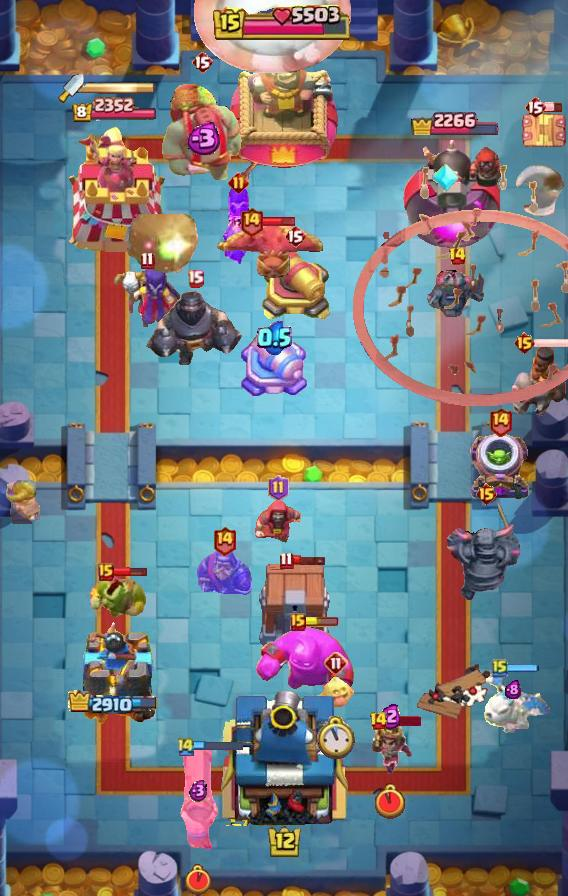axe: (112, 265, 182, 327)
bar: (55, 126, 173, 256)
bat-evolution: (316, 672, 356, 710)
battle-healer: (175, 747, 221, 851)
battle-ram: (426, 270, 488, 318)
bomb: (256, 564, 334, 650)
bomber-evolution: (367, 718, 413, 778)
bowler: (253, 499, 303, 549)
clock: (213, 5, 355, 43)
clone: (254, 626, 362, 708)
electro-spirit: (182, 122, 222, 154), (256, 321, 291, 355), (379, 703, 402, 729), (189, 778, 208, 801), (505, 680, 521, 699)
elite-barbarian: (510, 342, 568, 418)
elixir: (317, 716, 355, 760), (375, 783, 405, 819), (185, 865, 211, 896)
emote: (193, 740, 245, 752), (291, 554, 327, 566), (534, 337, 568, 349), (112, 567, 148, 578), (261, 217, 296, 228), (303, 617, 339, 627), (385, 716, 421, 726), (506, 663, 540, 673), (544, 103, 564, 114)
firecracker-evolution: (196, 547, 252, 597)
flying-machine: (89, 571, 147, 625)
goblin-ball: (221, 185, 255, 267)
goblin-brawler: (520, 109, 568, 153)
goblin-cage: (468, 432, 532, 502)
goblin-giant: (4, 479, 40, 525)
golemite: (447, 498, 525, 602)
king-tower: (214, 684, 354, 826), (230, 43, 338, 181)
king-tower-bar: (84, 81, 156, 95)
lava-hound: (159, 78, 245, 190)
mini-pekka: (473, 671, 553, 733)
mother-witch: (209, 217, 323, 283)
pad_2: (431, 162, 459, 194)
queen-tower: (72, 619, 156, 731)
royal-giant: (512, 164, 568, 218)
royal-guardian: (145, 278, 245, 368)
royal-recruit: (238, 327, 309, 403), (259, 250, 331, 324)
selected: (409, 105, 500, 135), (68, 690, 160, 717), (70, 97, 157, 124)
skeleton-barrel: (352, 163, 567, 407)
text: (488, 406, 513, 437), (211, 525, 236, 556), (240, 207, 264, 238), (324, 651, 348, 675), (512, 331, 535, 355), (475, 482, 498, 506), (268, 475, 289, 501), (191, 50, 213, 74), (524, 95, 546, 119), (284, 224, 306, 248), (227, 171, 248, 193), (176, 735, 196, 756), (448, 246, 468, 266), (368, 711, 388, 731), (492, 658, 508, 678), (187, 269, 204, 287), (98, 563, 114, 581), (290, 613, 306, 631), (140, 251, 155, 270), (279, 551, 293, 569)
tower-bar: (401, 132, 508, 256)
wall-breaker: (193, 0, 351, 72)
x-bow: (123, 214, 209, 276)
